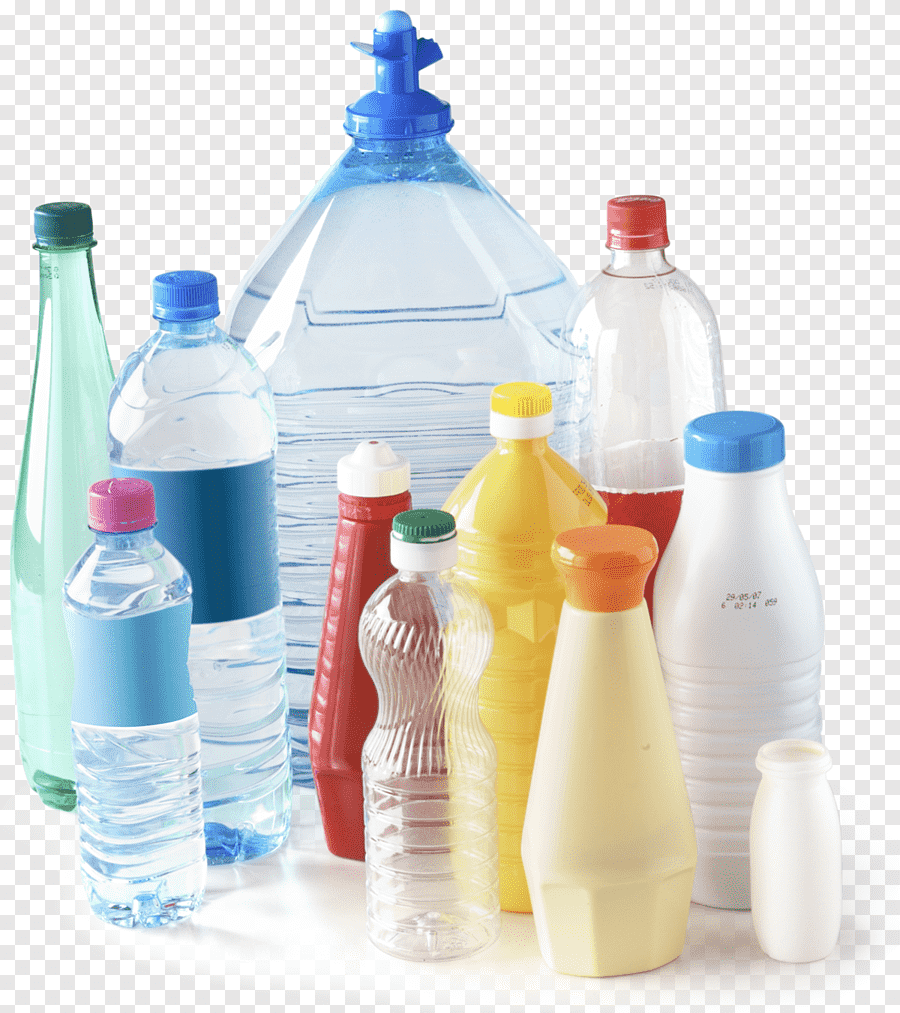plastic_bottle: (190, 10, 840, 1013), (3, 82, 425, 971), (103, 148, 360, 974), (441, 265, 701, 1004), (536, 111, 825, 773), (498, 454, 835, 1002), (295, 346, 538, 997), (44, 393, 292, 1007), (620, 308, 829, 1009), (339, 428, 572, 1013), (724, 685, 842, 1013)
